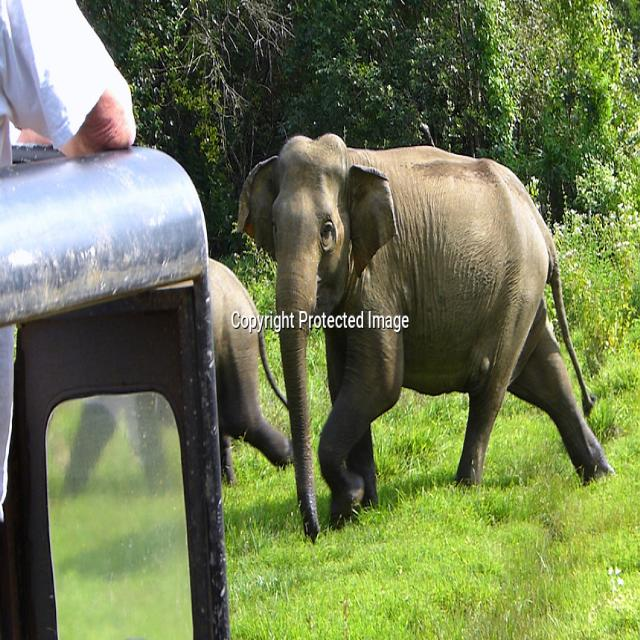Elephant: (240, 120, 620, 508)
